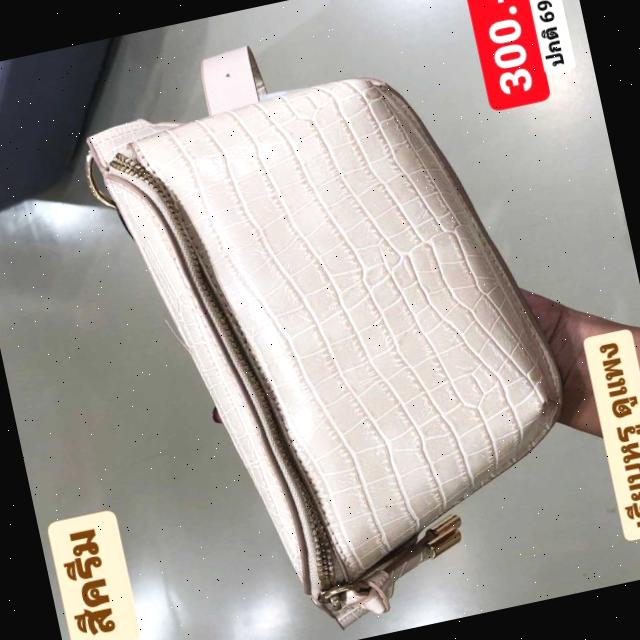Handbag: (78, 45, 595, 640)
